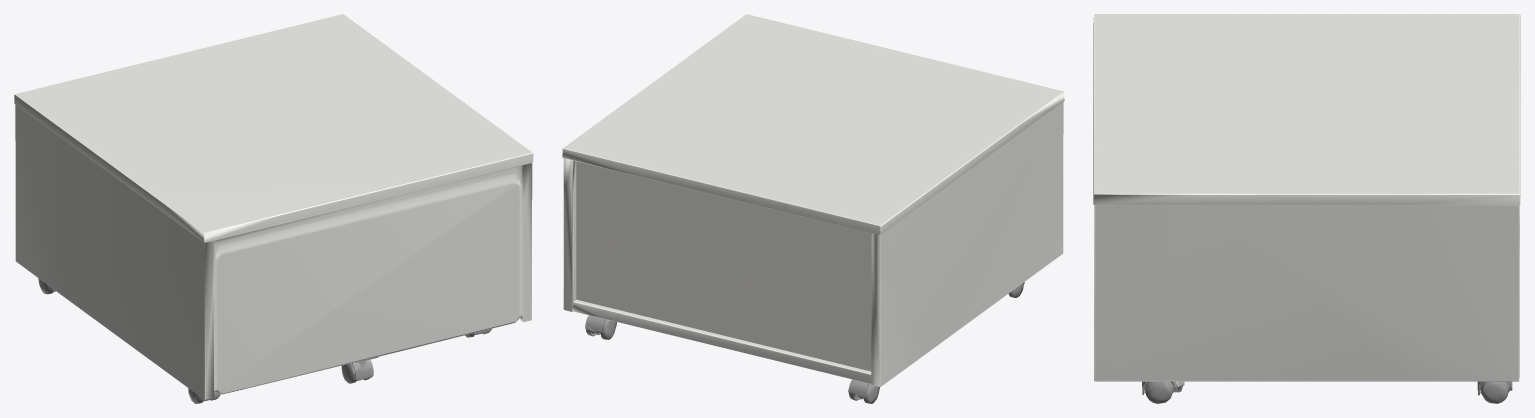
Rendered from slakt_pojemnik_na_kokach_80362974.glb.
The picture shows the model from 3 angles, left to right: view 1: azimuth 30°, elevation 25°; view 2: azimuth 150°, elevation 25°; view 3: azimuth 270°, elevation 25°; orthographic projection. The views are drawn at different scales.
Visible parts, largest first — view 1: slakt_pojemnik_na_kokach_80362974; view 2: slakt_pojemnik_na_kokach_80362974; view 3: slakt_pojemnik_na_kokach_80362974.
Boxes of the visible parts, <box> form: slakt_pojemnik_na_kokach_80362974: <box>14,14,533,403</box>; slakt_pojemnik_na_kokach_80362974: <box>562,14,1064,403</box>; slakt_pojemnik_na_kokach_80362974: <box>1093,14,1520,403</box>.
Size of the model in its own units: 0.6132 by 0.3496 by 0.6132.
Materials: 1 (1 with a texture image).
